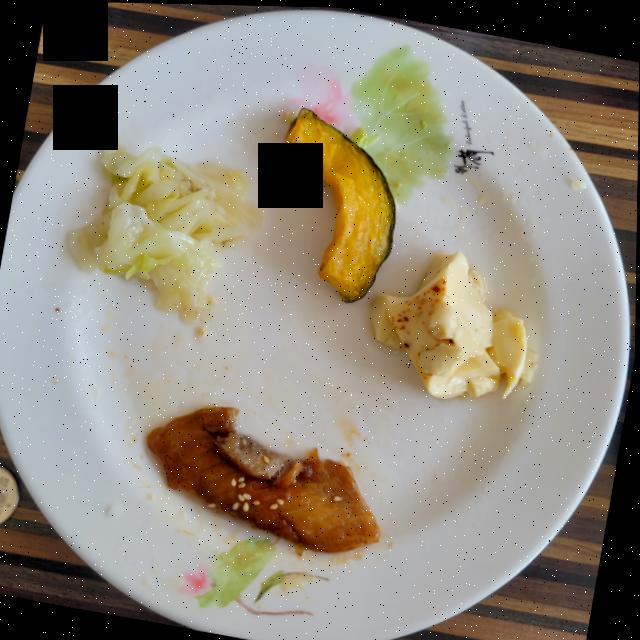Kabayaki sea bream fillet: (148, 405, 381, 551)
cabbage: (69, 132, 254, 320)
coin: (0, 465, 21, 524)
pumpkin: (282, 106, 396, 300)
